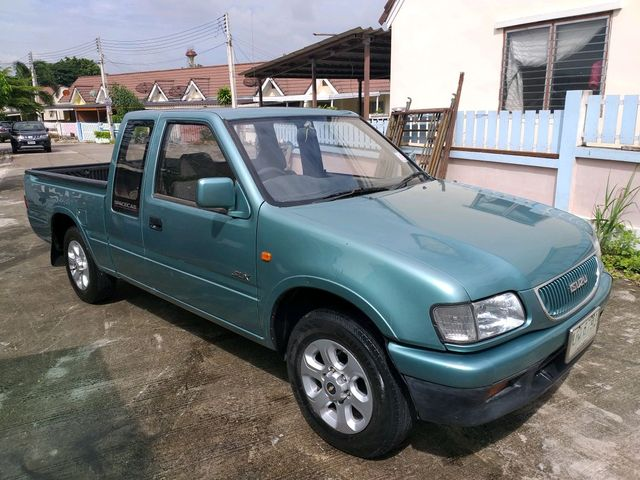pickup: (23, 102, 614, 459)
